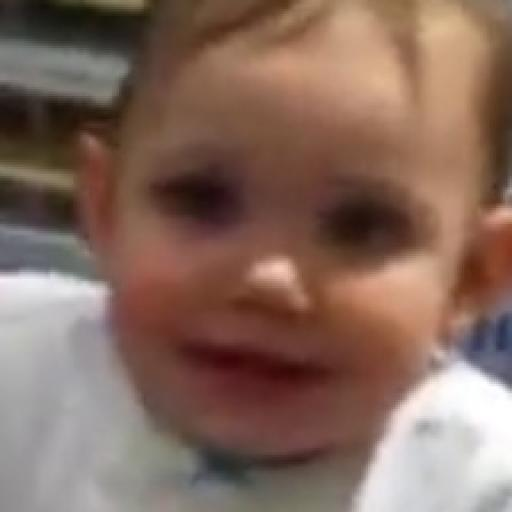Autism: (66, 12, 512, 468)
